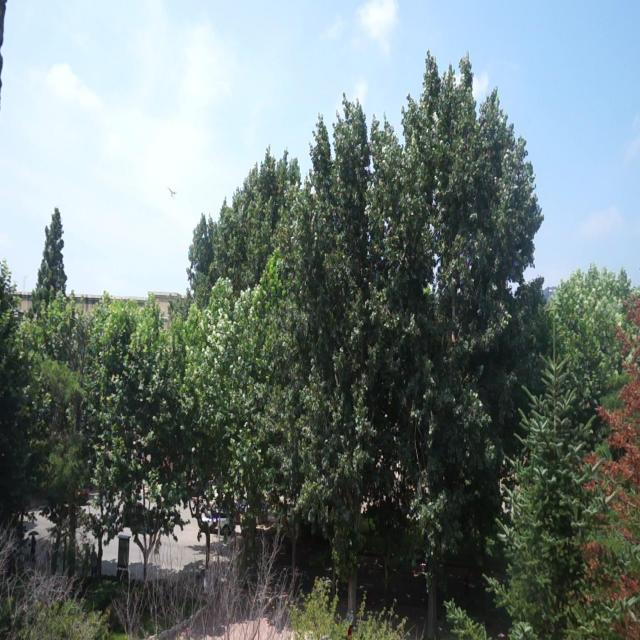UAV: (168, 186, 176, 198)
